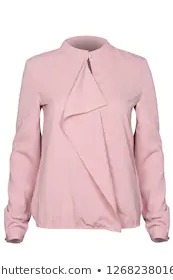C_blouse: (4, 32, 173, 248)
